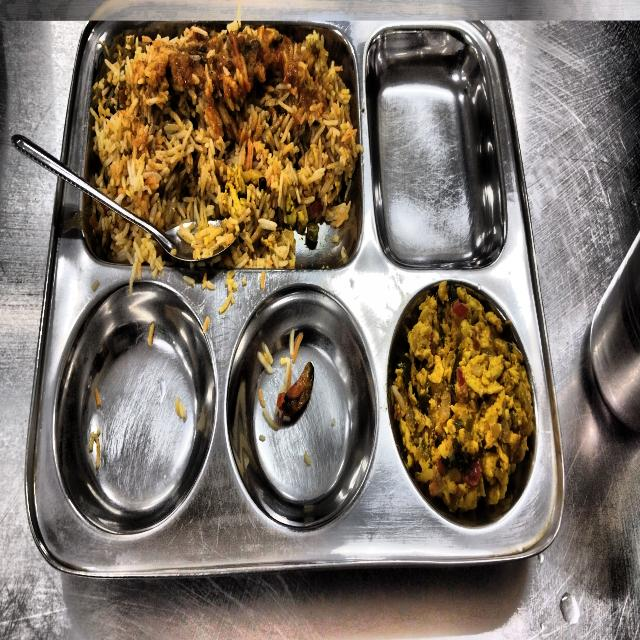Mushroom: (394, 282, 529, 488)
aloo-bhurji: (90, 23, 362, 268)
